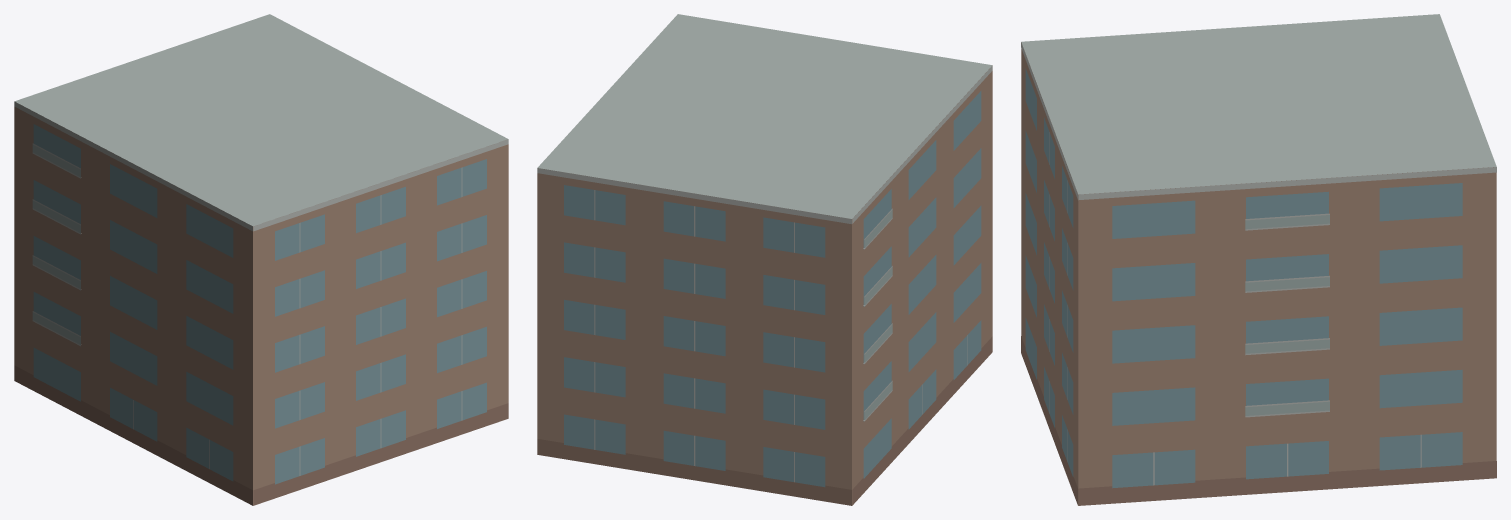
The model's file is survey-upis-32713488.glb.
3 views of the same model, side by side, from view 1: azimuth 30°, elevation 25°; view 2: azimuth 150°, elevation 25°; view 3: azimuth 270°, elevation 25° (orthographic). The views are drawn at different scales.
Visible parts, largest first — view 1: survey-upis-32713488.tmp; view 2: survey-upis-32713488.tmp; view 3: survey-upis-32713488.tmp.
Boxes of the visible parts, <box> form: survey-upis-32713488.tmp: <box>14,14,508,505</box>; survey-upis-32713488.tmp: <box>537,14,992,505</box>; survey-upis-32713488.tmp: <box>1021,14,1496,505</box>.
Bounding box in the file's own units: 16.67 × 13.4 × 18.56.
